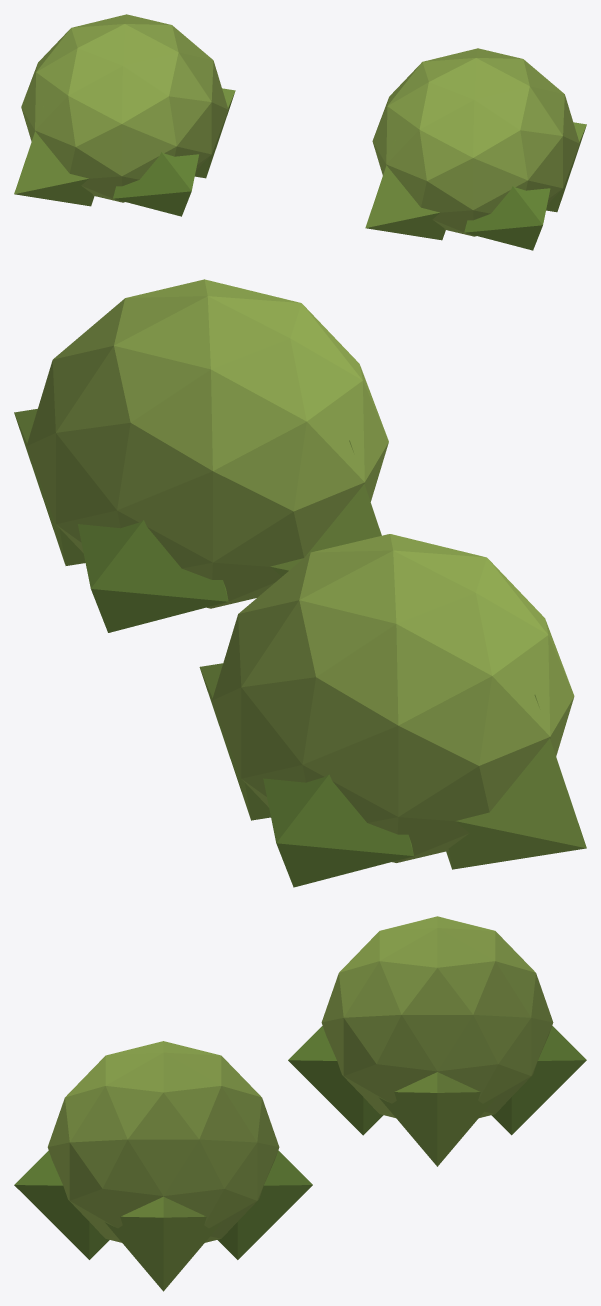
The model's file is crop-cell-lettuce-young.gltf.
The picture shows the model from 3 angles, top to bottom: view 1: azimuth 30°, elevation 25°; view 2: azimuth 150°, elevation 25°; view 3: azimuth 270°, elevation 25°; orthographic projection. The views are drawn at different scales.
Parts seen in each view (by area): view 1: crop-cell-lettuce-young; view 2: crop-cell-lettuce-young; view 3: crop-cell-lettuce-young.
Boxes of the visible parts, box(x1,y1,x2,y2) form: crop-cell-lettuce-young: box(14, 14, 586, 250); crop-cell-lettuce-young: box(14, 279, 586, 887); crop-cell-lettuce-young: box(14, 916, 586, 1291).
Bounding box in the file's own units: 0.5514 × 0.2039 × 0.5438.
